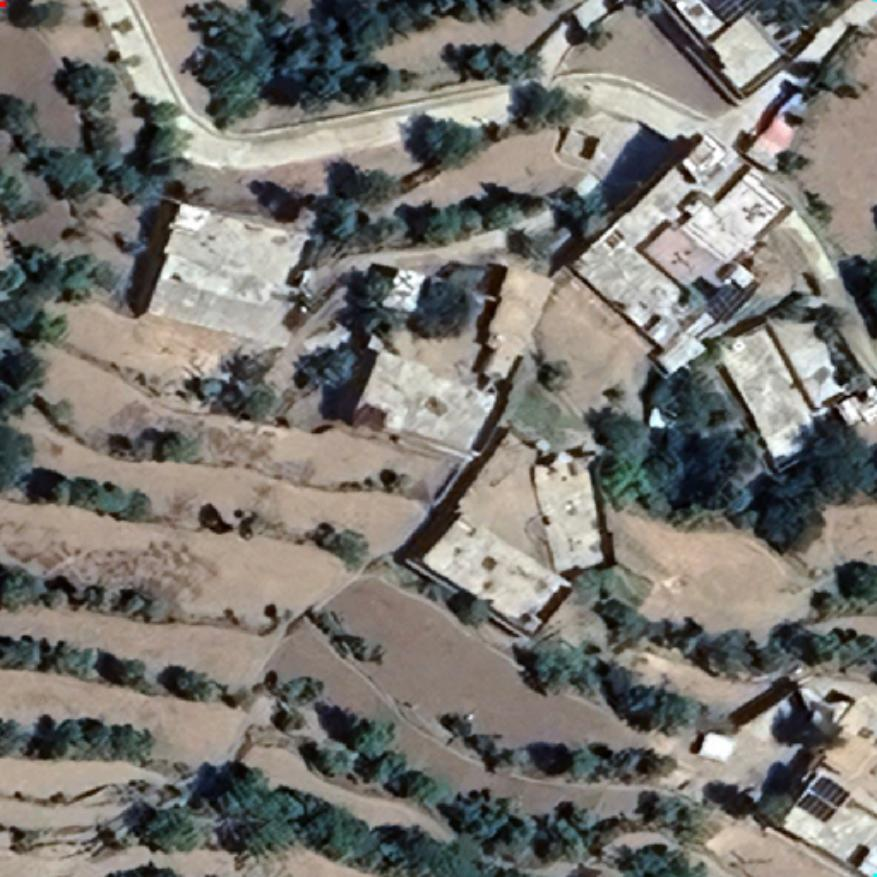Solarpanel: (794, 772, 854, 826), (704, 277, 752, 325), (702, 0, 760, 26)
